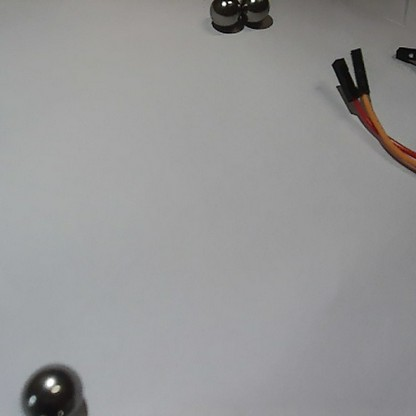ironball: (14, 358, 90, 414), (207, 0, 246, 35), (232, 0, 272, 26)
